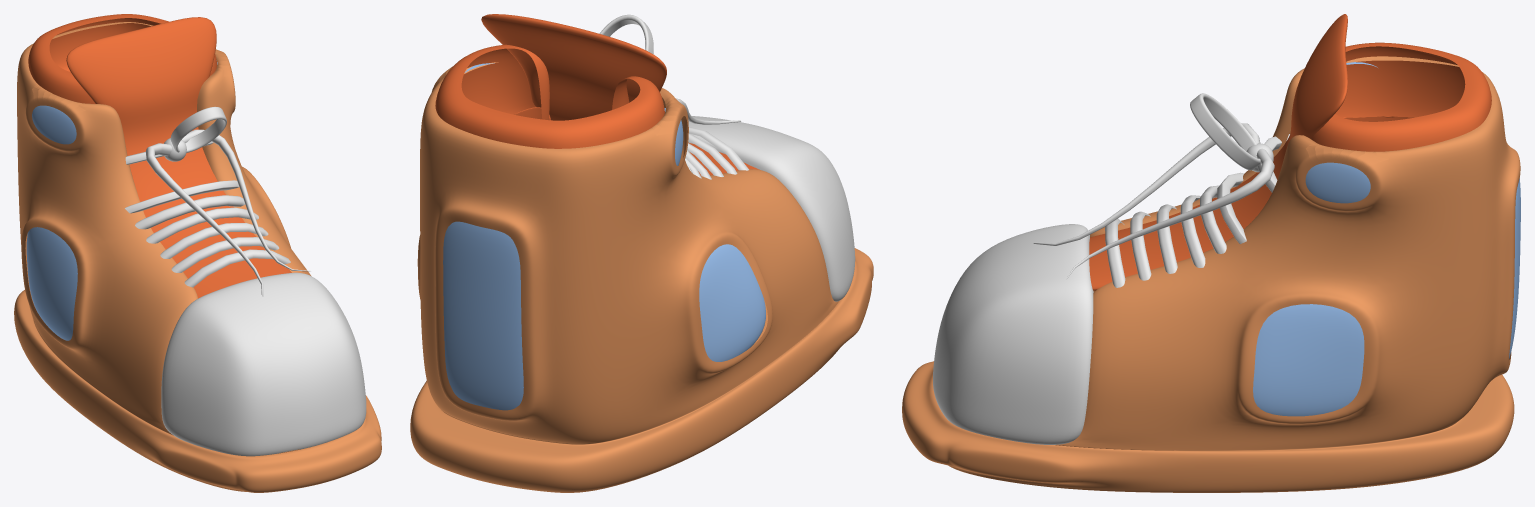
The model's file is Shoes01.fbx.
The picture shows the model from 3 angles, left to right: view 1: azimuth 30°, elevation 25°; view 2: azimuth 150°, elevation 25°; view 3: azimuth 270°, elevation 25°; orthographic projection. The views are drawn at different scales.
Parts seen in each view (by area): view 1: Cube, Cube.003, Cube.001, Cube.002, Cube.006, BezierCircle, BezierCurve, Cube.008, NurbsPath.003, BezierCurve.001, NurbsPath.002, NurbsPath.001 (+3 smaller); view 2: Cube, Cube.009, Cube.002, Cube.001, Cube.003, Cube.006, BezierCircle, NurbsPath; view 3: Cube, Cube.003, Cube.002, Cube.005, Cube.001, BezierCircle, Cube.007, BezierCurve.001, BezierCurve, NurbsPath.004, Cube.009, NurbsPath.002 (+4 smaller).
Part boxes in pixels (x1=…): Cube: x1=14, y1=22, x2=381, y2=492; Cube.003: x1=161, y1=272, x2=366, y2=456; Cube.001: x1=66, y1=17, x2=291, y2=298; Cube.002: x1=28, y1=14, x2=216, y2=103; Cube.006: x1=26, y1=227, x2=77, y2=340; BezierCircle: x1=170, y1=106, x2=226, y2=152; BezierCurve: x1=145, y1=143, x2=263, y2=296; Cube.008: x1=32, y1=105, x2=76, y2=144; NurbsPath.003: x1=135, y1=195, x2=245, y2=229; BezierCurve.001: x1=182, y1=129, x2=310, y2=271; NurbsPath.002: x1=146, y1=207, x2=258, y2=243; NurbsPath.001: x1=171, y1=237, x2=279, y2=272; Cube: x1=410, y1=62, x2=873, y2=492; Cube.009: x1=443, y1=221, x2=523, y2=410; Cube.002: x1=435, y1=44, x2=664, y2=148; Cube.001: x1=481, y1=14, x2=759, y2=175; Cube.003: x1=688, y1=116, x2=855, y2=301; Cube.006: x1=699, y1=244, x2=765, y2=361; BezierCircle: x1=599, y1=14, x2=653, y2=53; NurbsPath: x1=689, y1=127, x2=748, y2=170; Cube: x1=902, y1=56, x2=1520, y2=492; Cube.003: x1=933, y1=224, x2=1093, y2=444; Cube.002: x1=1311, y1=42, x2=1491, y2=151; Cube.005: x1=1253, y1=304, x2=1364, y2=416; Cube.001: x1=1089, y1=14, x2=1347, y2=290; BezierCircle: x1=1190, y1=93, x2=1260, y2=170; Cube.007: x1=1305, y1=162, x2=1370, y2=203; BezierCurve.001: x1=1066, y1=148, x2=1274, y2=279; BezierCurve: x1=1033, y1=123, x2=1260, y2=245; NurbsPath.004: x1=1217, y1=172, x2=1246, y2=243; Cube.009: x1=1509, y1=178, x2=1520, y2=358; NurbsPath.002: x1=1180, y1=195, x2=1205, y2=267.
Bounding box in the file's own units: 41.95 × 57.18 × 82.91.
